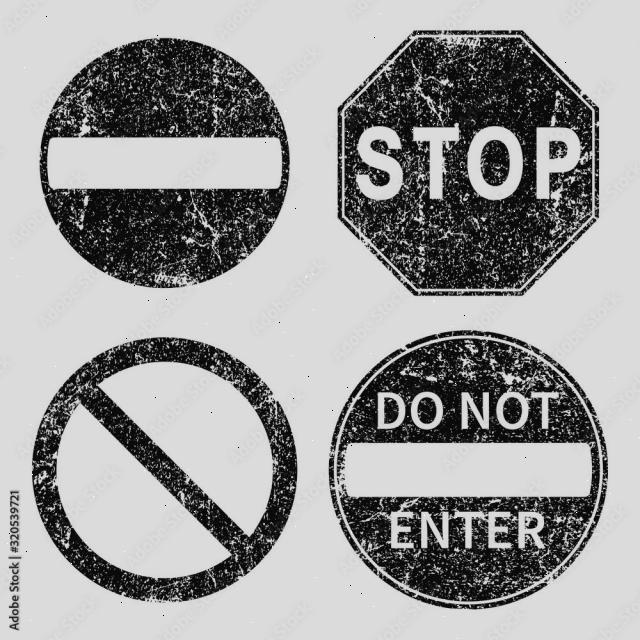Stop-sign: (326, 2, 628, 312)
